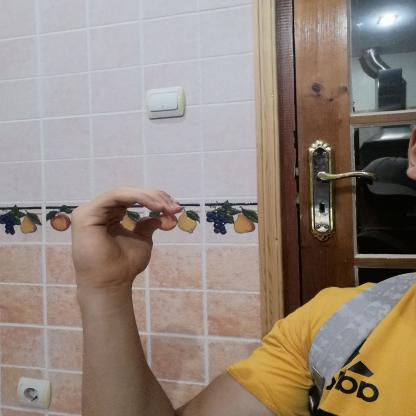JEEM: (56, 182, 190, 296)
